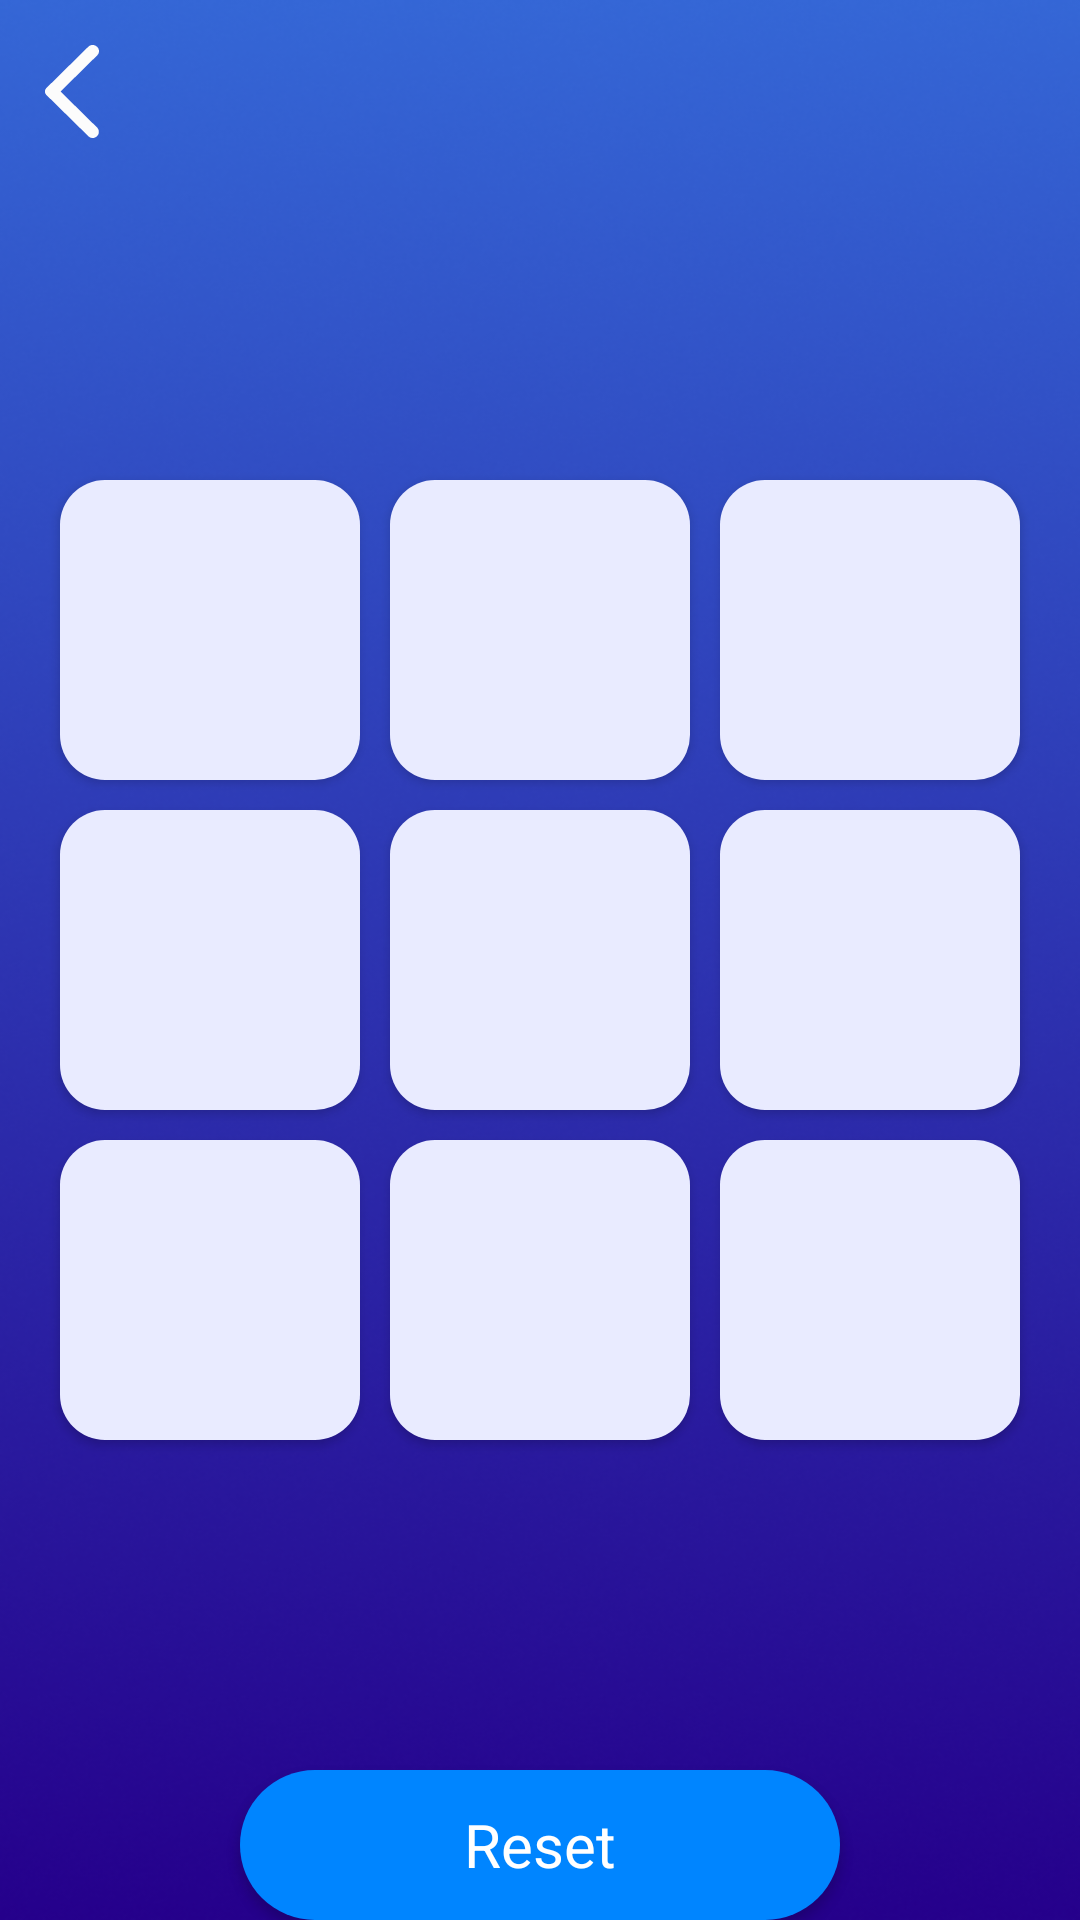

Named icons in this screenshot (1080 × 1920) and their bounding boxes, [x1, y1, x2, y2]:
back: [45, 45, 99, 138]
